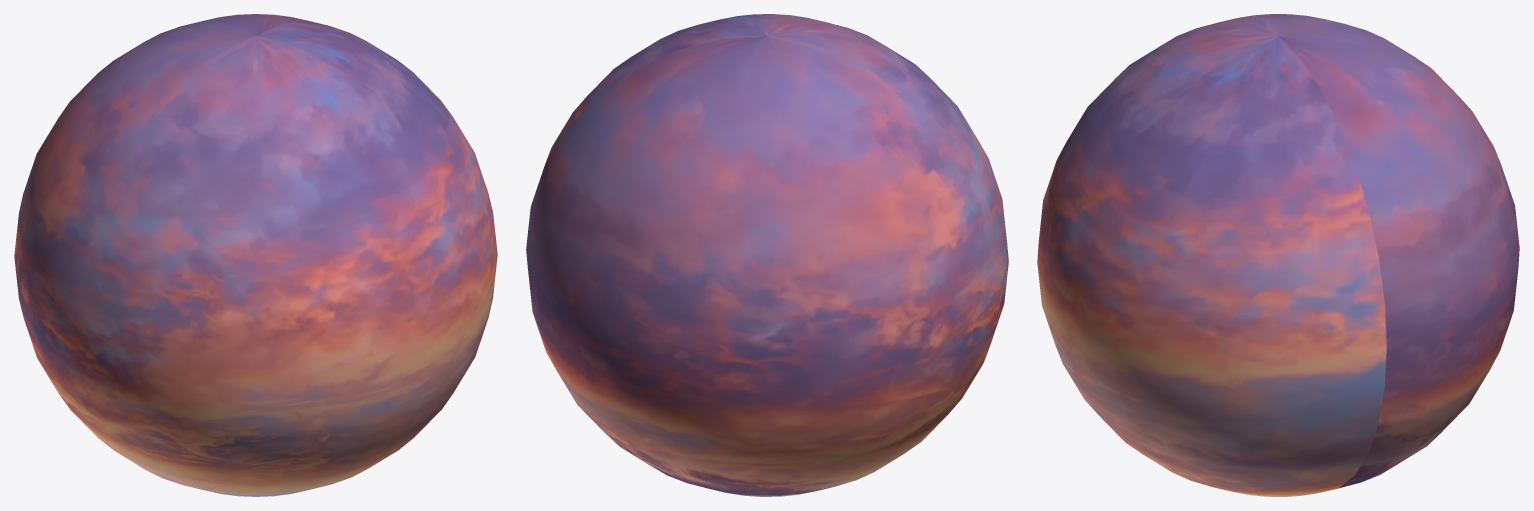
The model's file is astro-com-1.glb.
3 renders of one model, left to right at view 1: azimuth 30°, elevation 25°; view 2: azimuth 150°, elevation 25°; view 3: azimuth 270°, elevation 25°, orthographic.
Parts seen in each view (by area): view 1: Sphere; view 2: Sphere; view 3: Sphere.
Part boxes in pixels (x1,y1,x2,y2): Sphere: (14,14,497,496); Sphere: (526,14,1008,496); Sphere: (1037,14,1519,496).
Size of the model in its own units: 12.98 by 13.01 by 12.98.
Materials: 2 (2 with a texture image).
